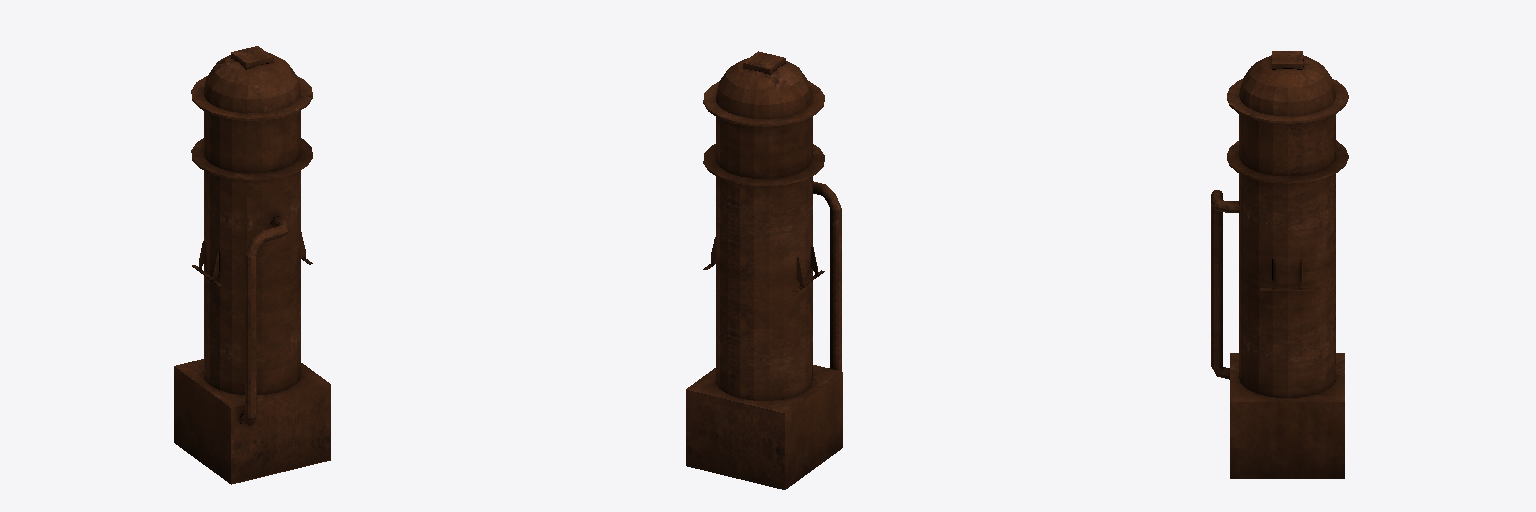
3 renders of one model, left to right at view 1: azimuth 30°, elevation 25°; view 2: azimuth 150°, elevation 25°; view 3: azimuth 270°, elevation 25°, orthographic.
Visible parts, largest first — view 1: 1_0750_pec02_Circle.008; view 2: 1_0750_pec02_Circle.008; view 3: 1_0750_pec02_Circle.008.
Part boxes in pixels (x1,y1,x2,y2): 1_0750_pec02_Circle.008: (174,46,330,484); 1_0750_pec02_Circle.008: (686,51,842,489); 1_0750_pec02_Circle.008: (1211,51,1348,478).
Bounding box in the file's own units: 15.69 × 56.21 × 17.66.
1 materials, 1 textured.